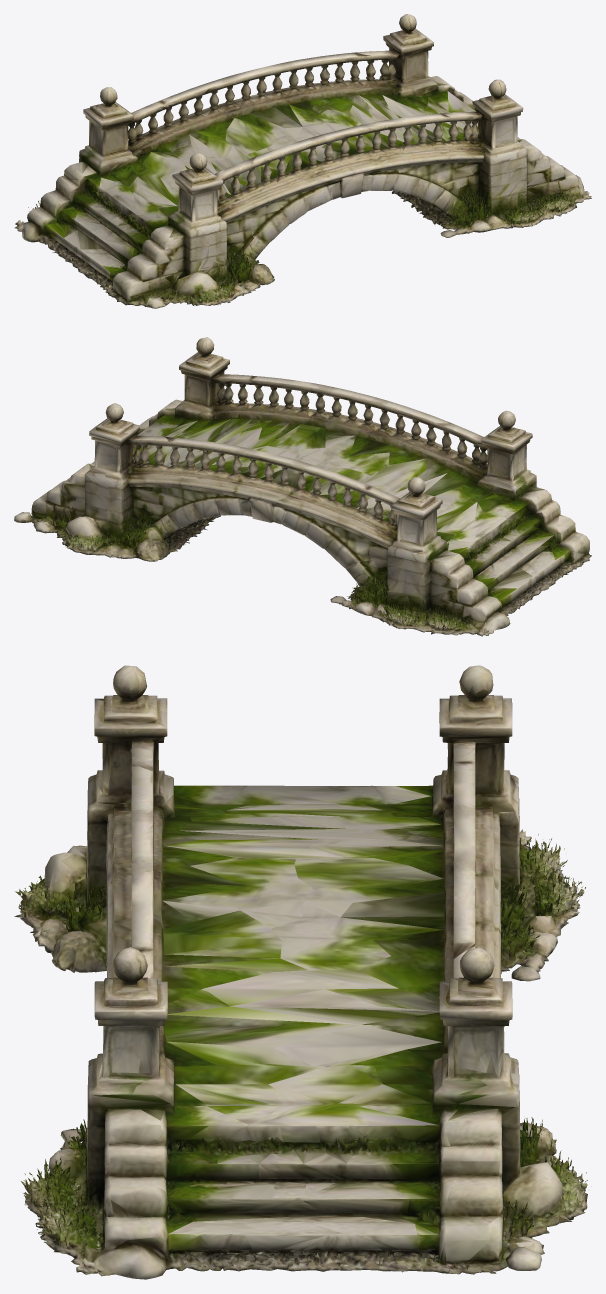
Rendered from Stone_Serenity_Bridge.glb.
3 renders of one model, top to bottom at view 1: azimuth 30°, elevation 25°; view 2: azimuth 150°, elevation 25°; view 3: azimuth 270°, elevation 25°, orthographic. The views are drawn at different scales.
Visible parts, largest first — view 1: Stone_Serenity_Bridge; view 2: Stone_Serenity_Bridge; view 3: Stone_Serenity_Bridge.
Part boxes in pixels (x1,y1,x2,y2): Stone_Serenity_Bridge: (14, 14, 591, 308); Stone_Serenity_Bridge: (14, 337, 591, 636); Stone_Serenity_Bridge: (14, 665, 589, 1279).
Bounding box in the file's own units: 1.9 × 0.4931 × 1.04.
1 material, 1 textured.
